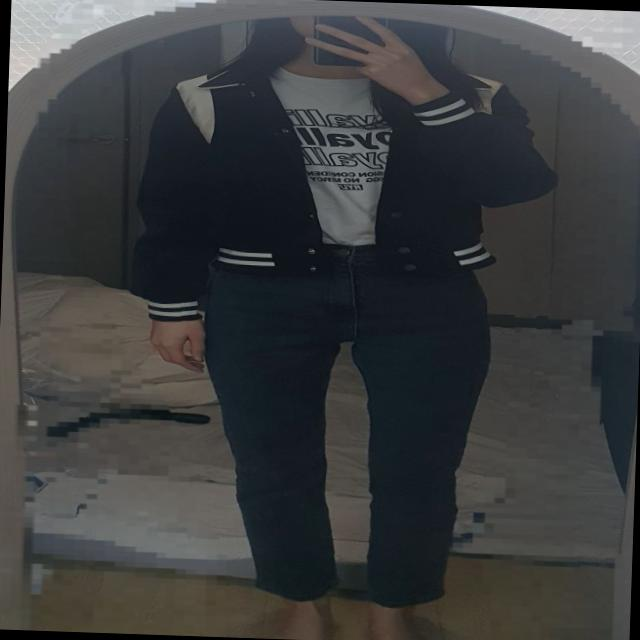denimpants: (198, 239, 501, 612)
jacket: (122, 51, 560, 337)
